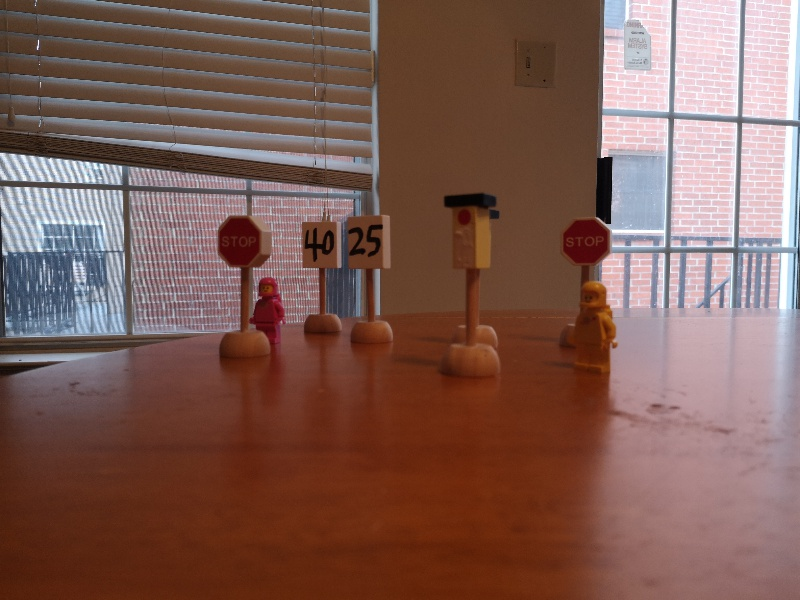Person: (569, 282, 619, 375), (250, 277, 288, 344)
Red Traffic Light: (442, 193, 492, 270)
Speed Limit 25: (346, 215, 393, 270)
Speed Limit 40: (300, 222, 342, 270)
Stop Sign: (214, 215, 276, 272), (561, 217, 613, 266)
